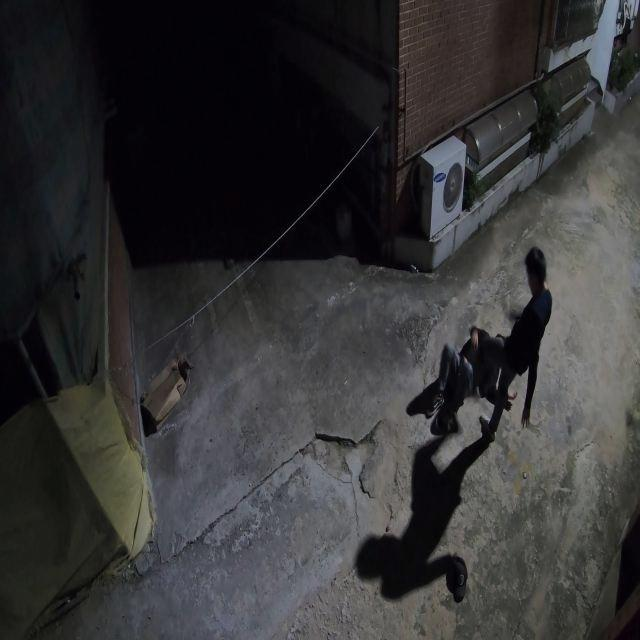fight: (405, 240, 551, 442)
